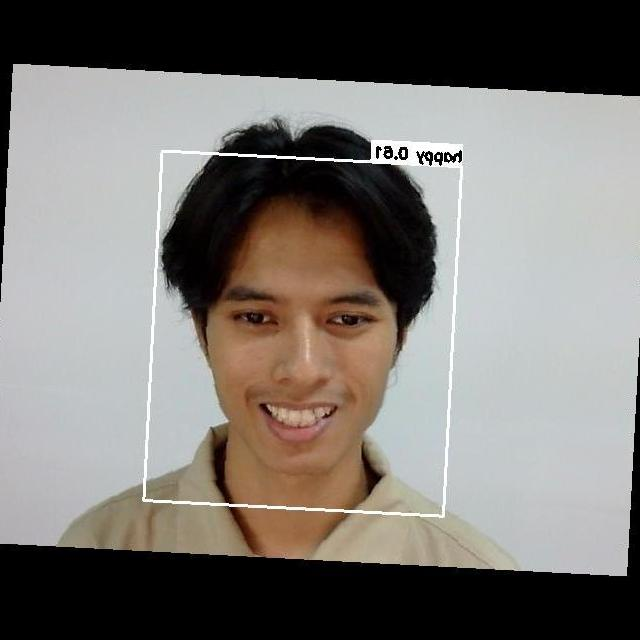Happy: (207, 265, 405, 461)
